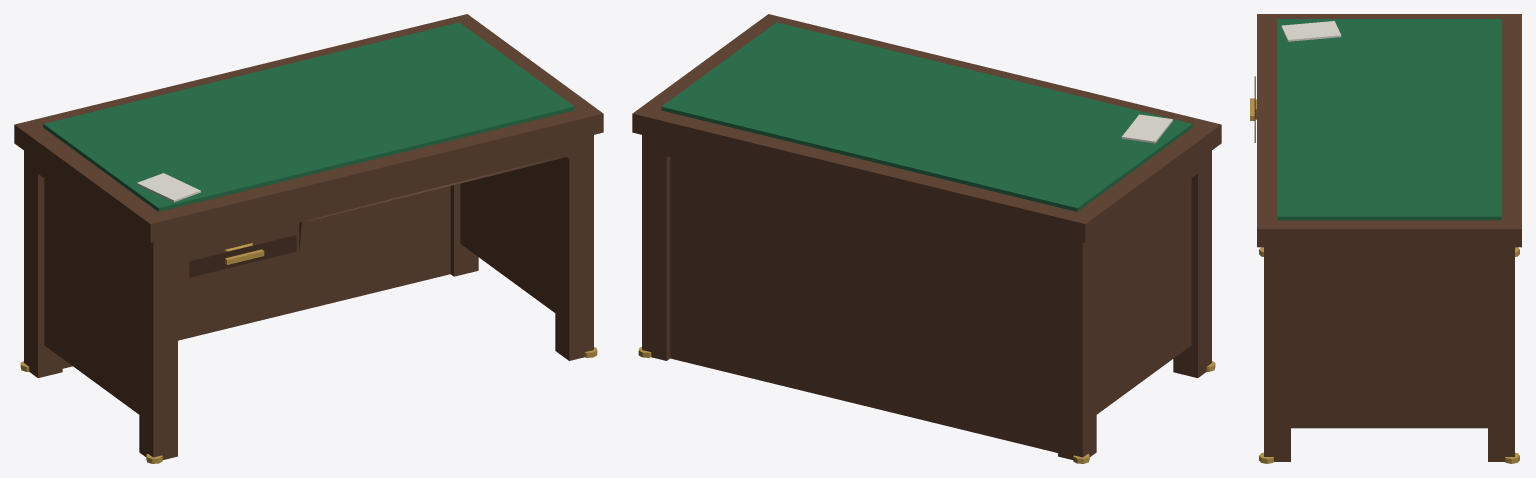
The model's file is desk.glb.
The picture shows the model from 3 angles, left to right: view 1: azimuth 30°, elevation 25°; view 2: azimuth 150°, elevation 25°; view 3: azimuth 270°, elevation 25°; orthographic projection. The views are drawn at different scales.
Visible parts, largest first — view 1: desk(Clone), drawer; view 2: desk(Clone); view 3: desk(Clone).
Part boxes in pixels (left/top/right/bottom): desk(Clone): left=14, top=14, right=603, bottom=463; drawer: left=178, top=222, right=299, bottom=283; desk(Clone): left=632, top=14, right=1221, bottom=463; desk(Clone): left=1257, top=14, right=1521, bottom=463.
Bounding box in the file's own units: 0.7345 × 0.3844 × 0.3923.
